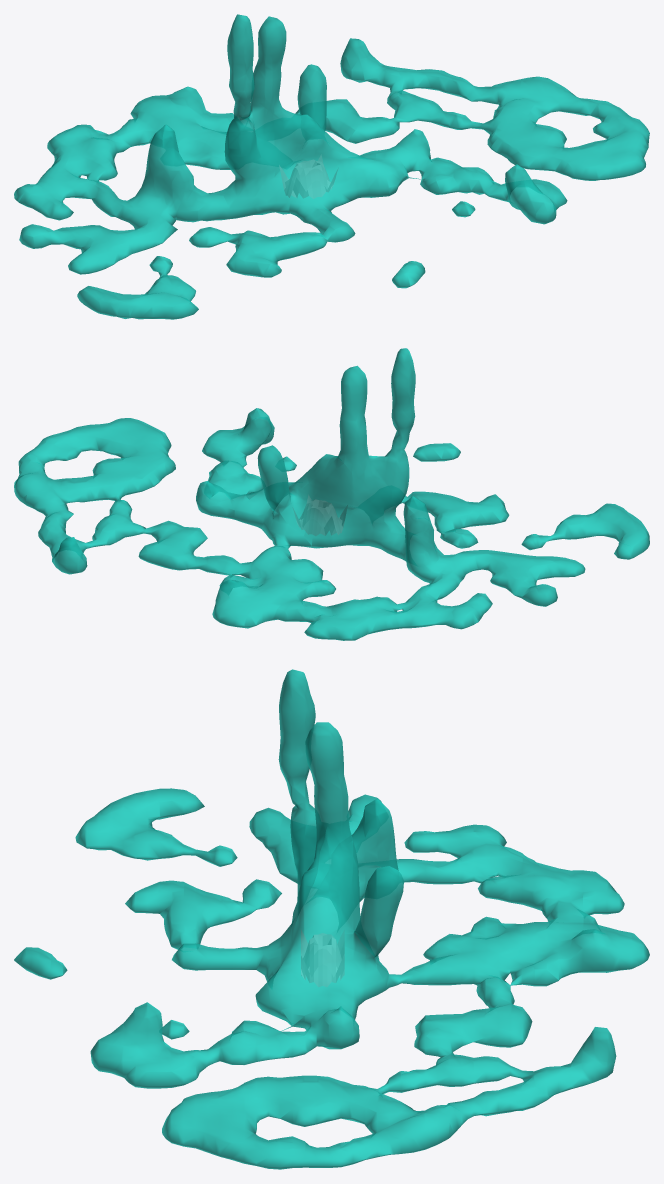
3 views of the same model, one above another, from view 1: azimuth 30°, elevation 25°; view 2: azimuth 150°, elevation 25°; view 3: azimuth 270°, elevation 25° (orthographic). The views are drawn at different scales.
Parts seen in each view (by area): view 1: Liquid_Domain, グリッド; view 2: Liquid_Domain, グリッド; view 3: Liquid_Domain, グリッド.
Part boxes in pixels (x1,y1,x2,y2): Liquid_Domain: (14, 14, 649, 319); グリッド: (279, 155, 337, 198); Liquid_Domain: (14, 348, 649, 640); グリッド: (293, 495, 347, 535); Liquid_Domain: (14, 669, 649, 1169); グリッド: (301, 930, 344, 986).
Bounding box in the file's own units: 5.96 × 2 × 4.34.
